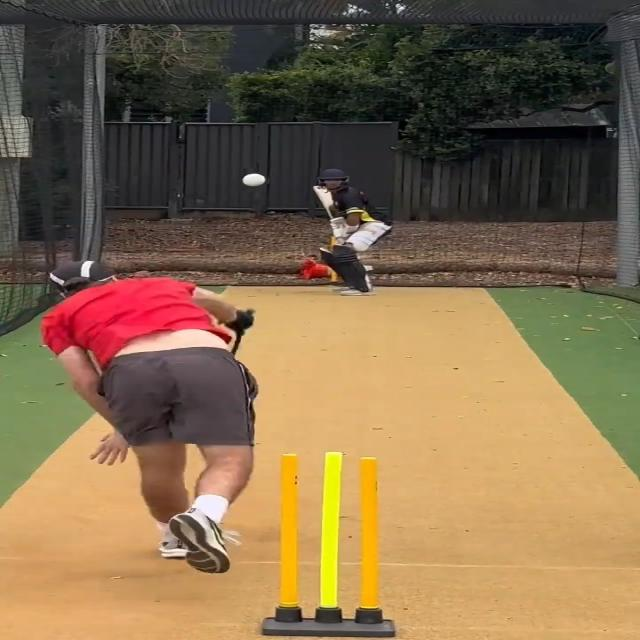ball: (239, 170, 269, 190)
stump: (257, 449, 398, 640)
